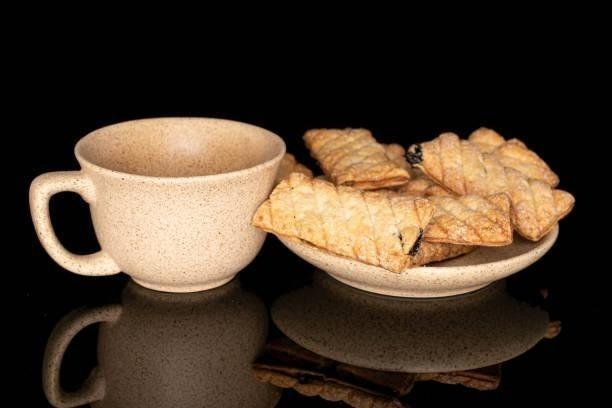cup-handle: (28, 114, 288, 294)
